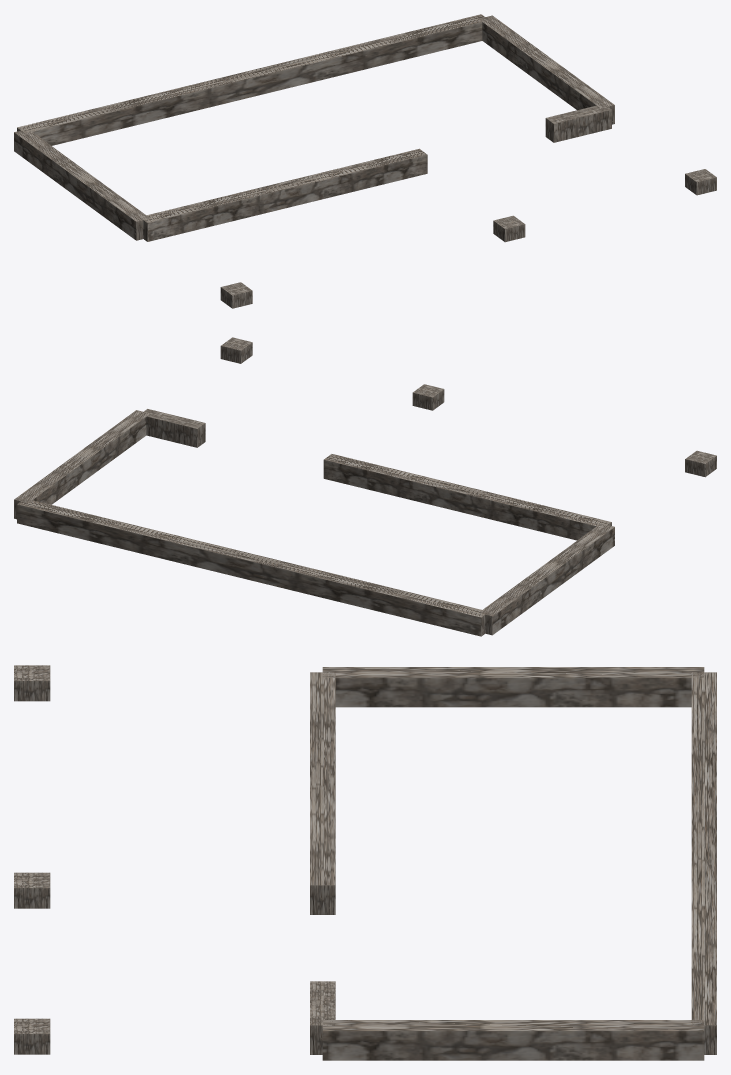
Rendered from BW_Blacksmith01_Foundation.fbx.
The picture shows the model from 3 angles, top to bottom: view 1: azimuth 30°, elevation 25°; view 2: azimuth 150°, elevation 25°; view 3: azimuth 270°, elevation 25°; orthographic projection. The views are drawn at different scales.
Parts seen in each view (by area): view 1: BW_Blacksmith01_Foundation; view 2: BW_Blacksmith01_Foundation; view 3: BW_Blacksmith01_Foundation.
Part boxes in pixels (box(x1,y1,x2,y2)): BW_Blacksmith01_Foundation: box(14, 14, 716, 308); BW_Blacksmith01_Foundation: box(14, 337, 716, 636); BW_Blacksmith01_Foundation: box(14, 665, 716, 1060).
Size of the model in its own units: 9.6 by 0.36 by 7.74.
